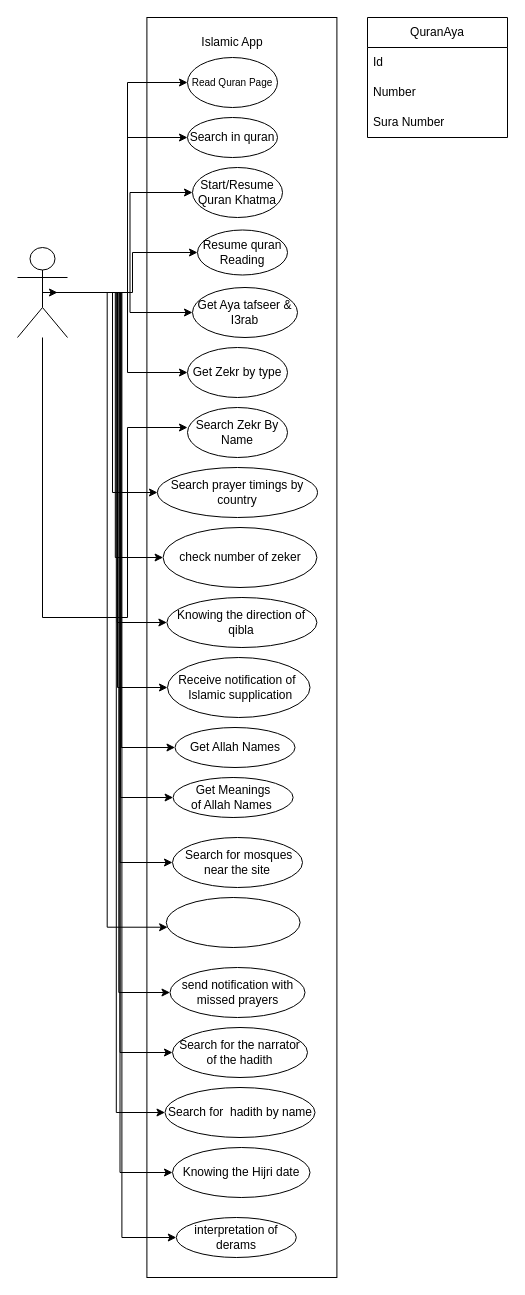
Some shapes in this 525 by 1295 pixel diagram are drawn without their labels. The shapes that lost their labels are listed below. From the top down, each one's centre as x and y in pixels, then its label:
the point at 42,292: User
the point at 232,922: Inquiry and answer about fatwas
